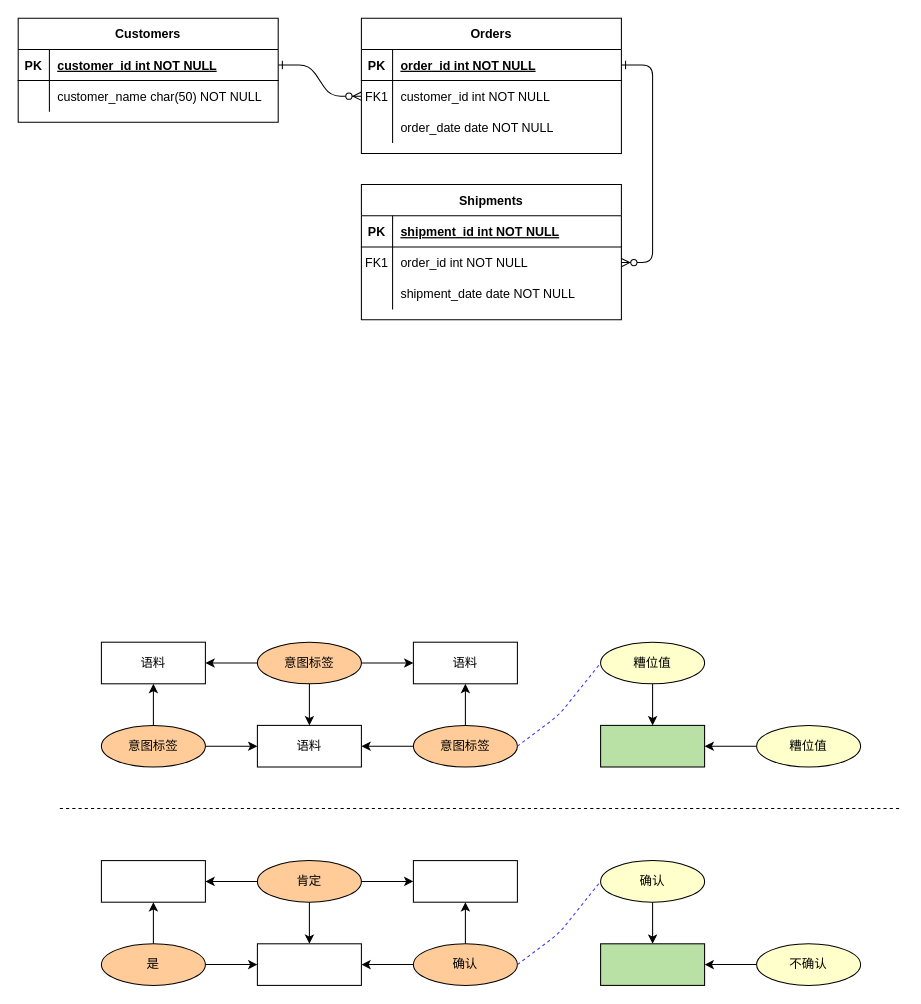
Some shapes in this 921 by 1004 pixel diagram are drawn without their labels. The centre of each missing label's shape, as x and y in pixels:
"可以的" goes at point (152, 881).
"是否本人" goes at point (652, 964).
"是的，没错" goes at point (308, 964).
"模型" goes at point (652, 745).
"没问题的" goes at point (464, 881).
